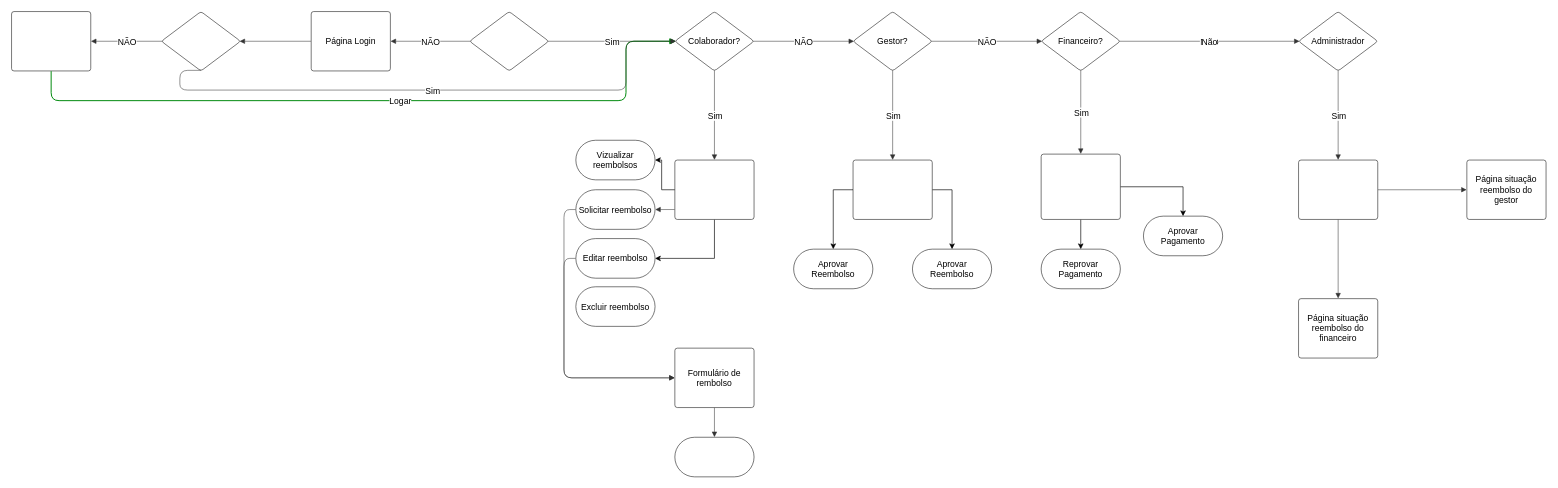
Image size: 1558x488. Some labels were removed from this diagram. The centre of each missing label's shape, as x and y in pixels:
Cadastro: the point at 51,41
Criar reembolso: the point at 714,457
Logado?: the point at 509,41
Possui conta?: the point at 201,41
Página Financeiro (lista de tickets para pagamento): the point at 1080,186
Página Gestor (lista de tickets para aprovação): the point at 892,189
Página principal: the point at 1338,189
Página Principal Colaborador: the point at 714,189
